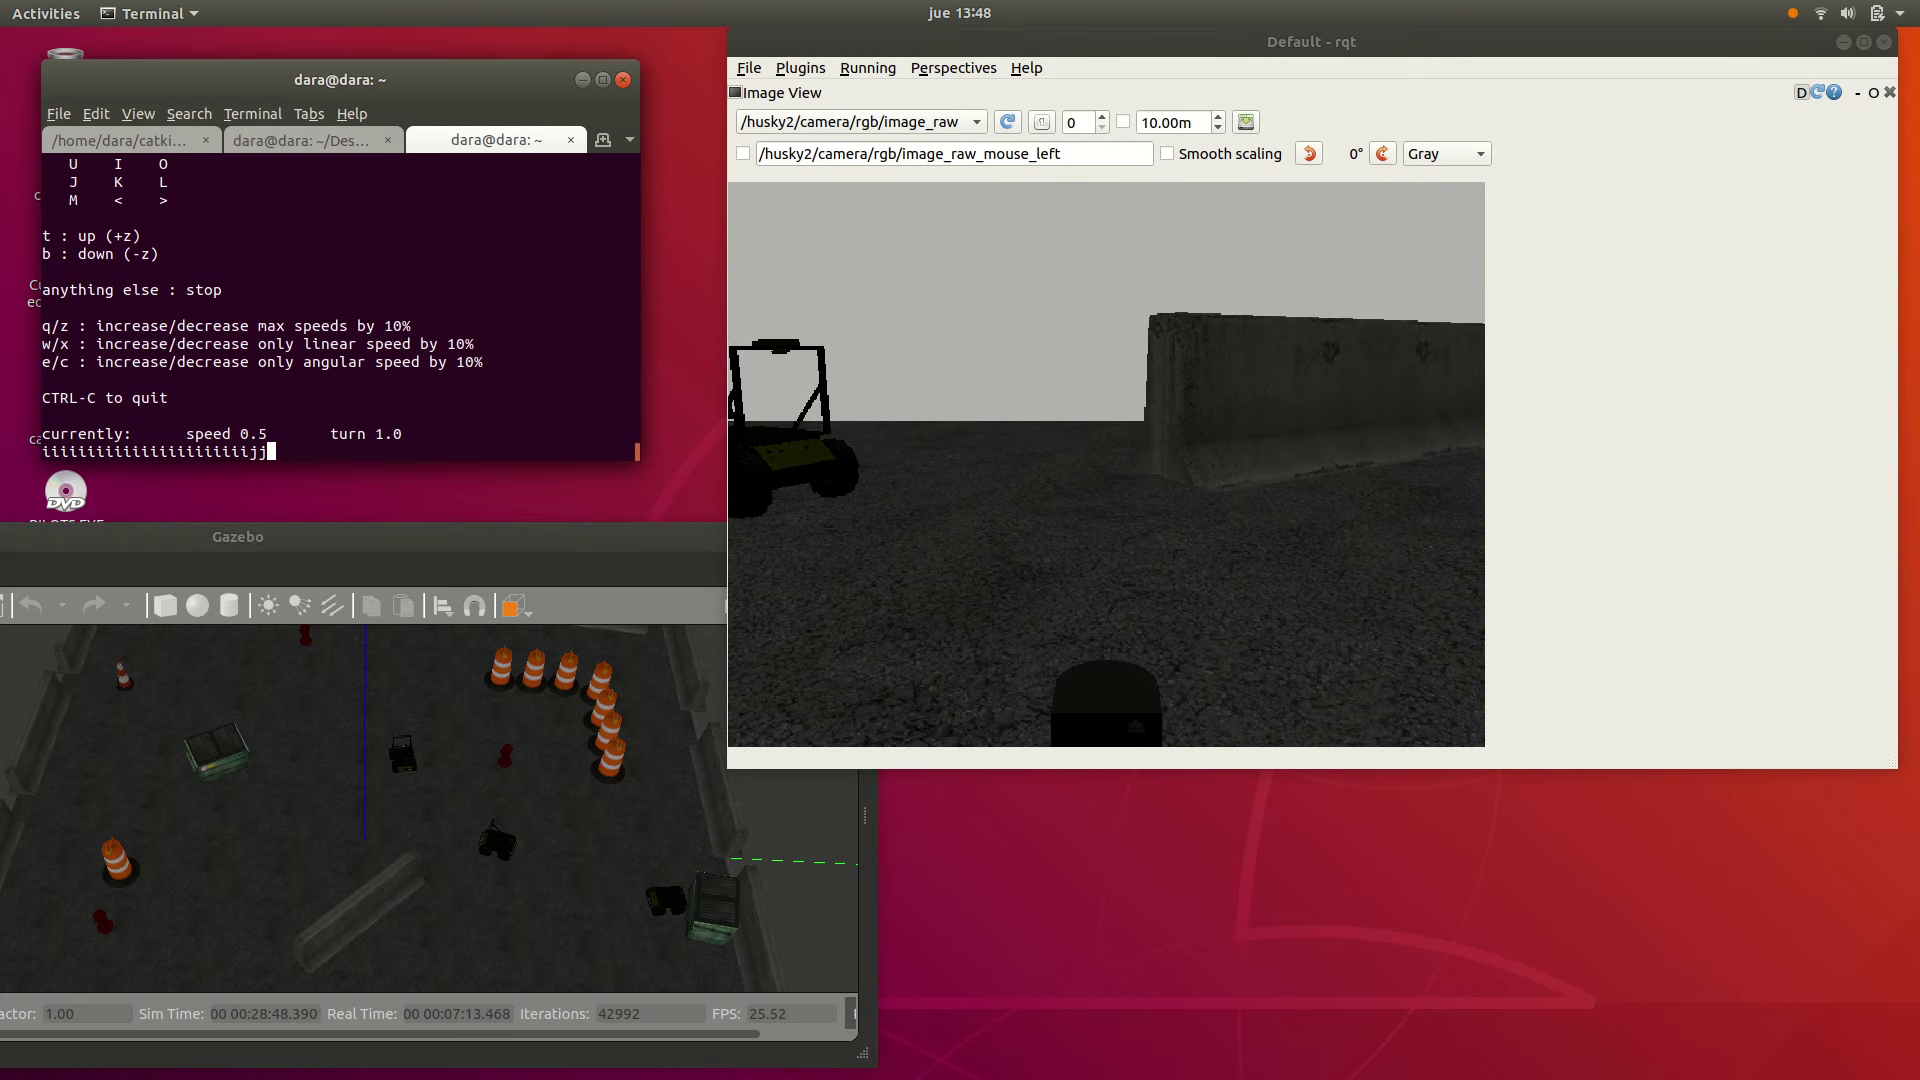husky: (729, 426, 858, 516), (645, 885, 688, 916), (477, 828, 516, 861), (388, 744, 418, 774)
